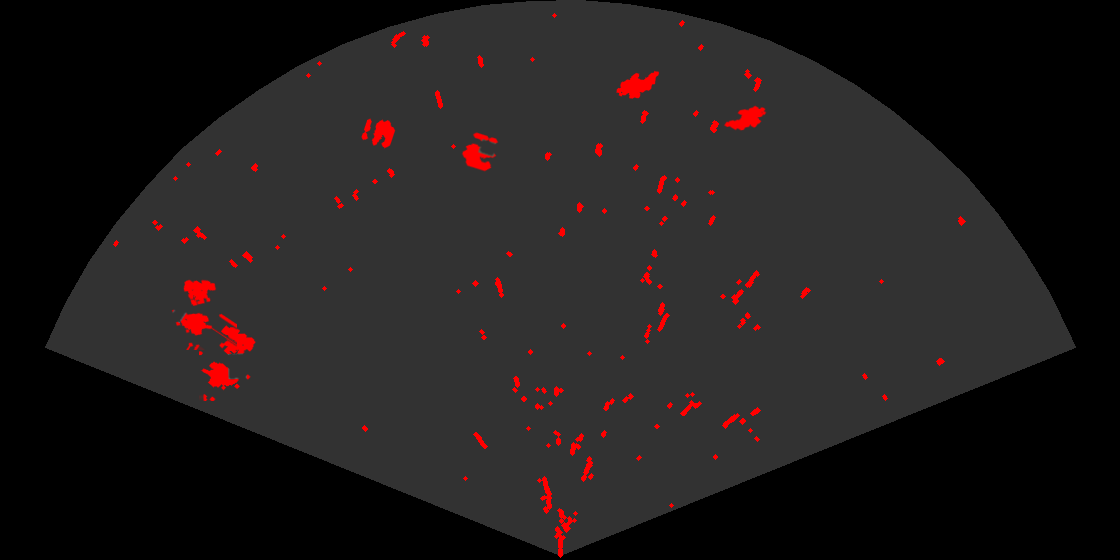AUV: (615, 69, 661, 100), (722, 104, 768, 132)
ball: (460, 131, 500, 173), (360, 117, 397, 150)
cage: (170, 278, 237, 350), (199, 324, 257, 401)
